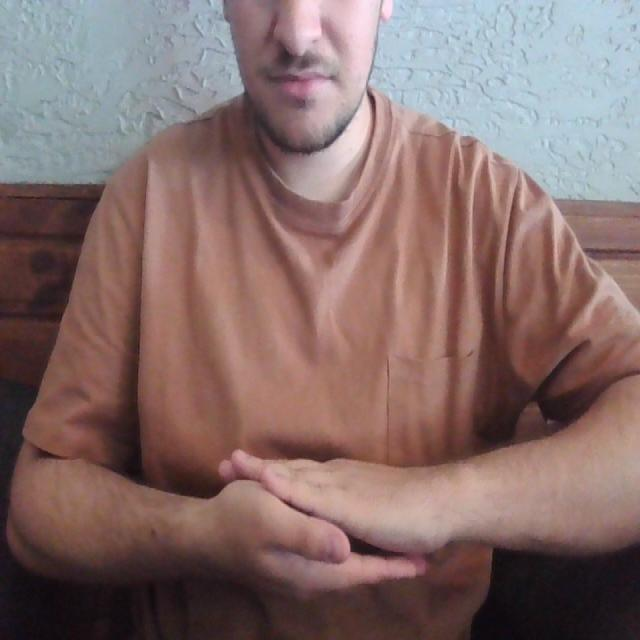Arkadas: (58, 434, 607, 602)
